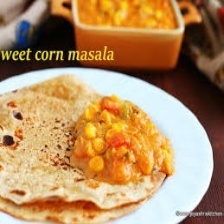sabzi: (72, 0, 183, 36)
